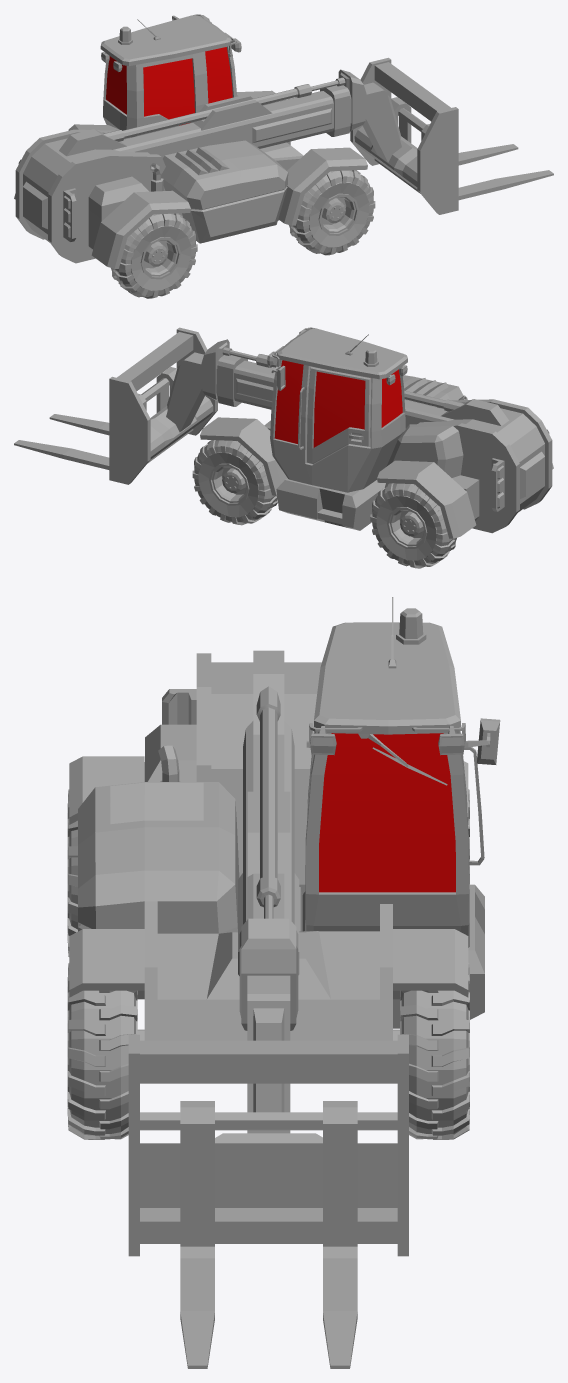
Rendered from SK_Veh_Telehandler_01.fbx.
The picture shows the model from 3 angles, top to bottom: view 1: azimuth 30°, elevation 25°; view 2: azimuth 150°, elevation 25°; view 3: azimuth 270°, elevation 25°; orthographic projection. The views are drawn at different scales.
Visible parts, largest first — view 1: SK_Veh_Telehandler_01, SK_Veh_Telehandler_01_Forks, SK_Veh_Telehandler_01_Wheel_fr, SK_Veh_Telehandler_01_Wheel_rr, SK_Veh_Telehandler_01_Glass, SK_Veh_Telehandler_01_Arm_03, SK_Veh_Telehandler_01_Arm_02; view 2: SK_Veh_Telehandler_01, SK_Veh_Telehandler_01_Forks, SK_Veh_Telehandler_01_Glass, SK_Veh_Telehandler_01_Wheel_fl, SK_Veh_Telehandler_01_Wheel_rl, SK_Veh_Telehandler_01_Arm_03, SK_Veh_Telehandler_01_Arm_02; view 3: SK_Veh_Telehandler_01, SK_Veh_Telehandler_01_Forks, SK_Veh_Telehandler_01_Glass, SK_Veh_Telehandler_01_Wheel_fr, SK_Veh_Telehandler_01_Wheel_fl, SK_Veh_Telehandler_01_Arm_03, SK_Veh_Telehandler_01_Arm_02, SK_Veh_Telehandler_01_Wheel_rr.
Part boxes in pixels (left/top/right/bottom): SK_Veh_Telehandler_01: left=14, top=14, right=367, bottom=268; SK_Veh_Telehandler_01_Forks: left=350, top=57, right=553, bottom=214; SK_Veh_Telehandler_01_Wheel_fr: left=289, top=170, right=375, bottom=255; SK_Veh_Telehandler_01_Wheel_rr: left=111, top=213, right=197, bottom=298; SK_Veh_Telehandler_01_Glass: left=106, top=47, right=232, bottom=125; SK_Veh_Telehandler_01_Arm_03: left=362, top=82, right=401, bottom=162; SK_Veh_Telehandler_01_Arm_02: left=311, top=69, right=366, bottom=131; SK_Veh_Telehandler_01: left=200, top=327, right=553, bottom=538; SK_Veh_Telehandler_01_Forks: left=14, top=327, right=217, bottom=484; SK_Veh_Telehandler_01_Glass: left=274, top=360, right=402, bottom=447; SK_Veh_Telehandler_01_Wheel_fl: left=192, top=440, right=277, bottom=525; SK_Veh_Telehandler_01_Wheel_rl: left=370, top=483, right=456, bottom=568; SK_Veh_Telehandler_01_Arm_03: left=166, top=352, right=205, bottom=432; SK_Veh_Telehandler_01_Arm_02: left=201, top=339, right=256, bottom=401; SK_Veh_Telehandler_01: left=69, top=597, right=500, bottom=1040; SK_Veh_Telehandler_01_Forks: left=128, top=1034, right=408, bottom=1368; SK_Veh_Telehandler_01_Glass: left=319, top=733, right=455, bottom=892; SK_Veh_Telehandler_01_Wheel_fr: left=67, top=963, right=137, bottom=1139; SK_Veh_Telehandler_01_Wheel_fl: left=400, top=963, right=469, bottom=1139; SK_Veh_Telehandler_01_Arm_03: left=247, top=975, right=290, bottom=1133; SK_Veh_Telehandler_01_Arm_02: left=241, top=894, right=296, bottom=1030; SK_Veh_Telehandler_01_Wheel_rr: left=67, top=789, right=77, bottom=956.
Size of the model in its own units: 883 by 350 by 330.
